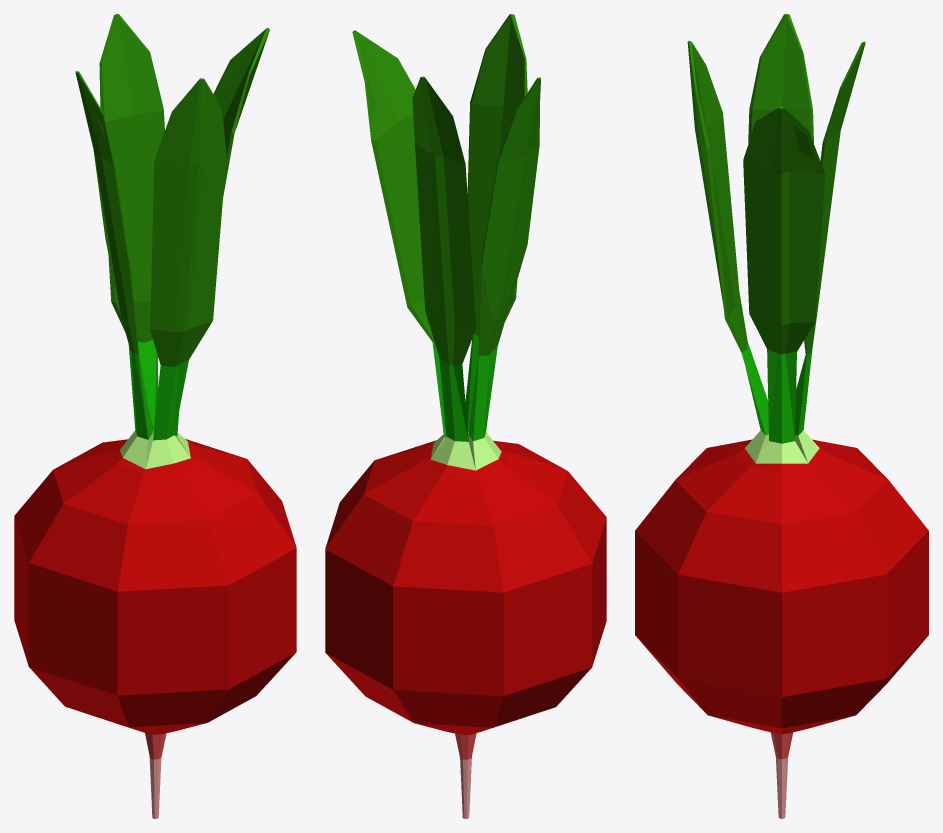
Rendered from radish01.obj.
3 renders of one model, left to right at view 1: azimuth 30°, elevation 25°; view 2: azimuth 150°, elevation 25°; view 3: azimuth 270°, elevation 25°, orthographic.
Visible parts, largest first — view 1: Cylinder; view 2: Cylinder; view 3: Cylinder.
Boxes of the visible parts, <box> form: Cylinder: <box>14,14,296,818</box>; Cylinder: <box>325,14,606,818</box>; Cylinder: <box>635,14,928,818</box>.
Bounding box in the file's own units: 0.0594 × 0.1729 × 0.0594.
1 material, 1 textured.
